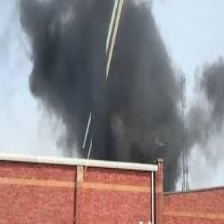smoke: (17, 1, 193, 158)
